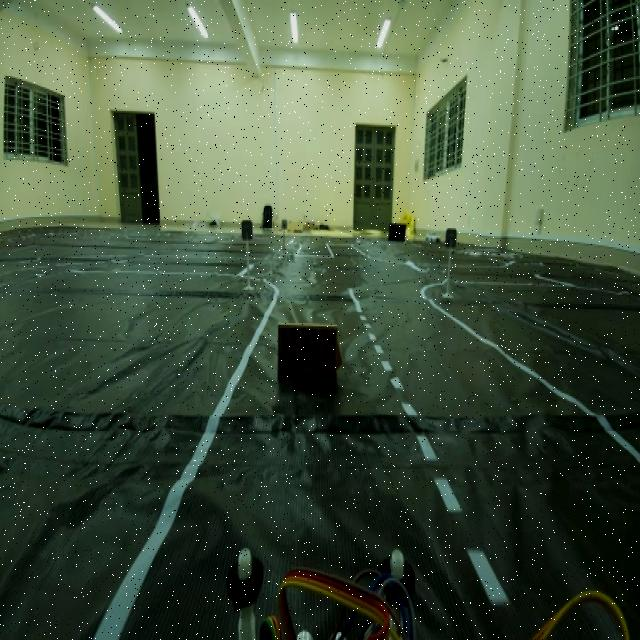roadblock: (266, 312, 355, 417)
